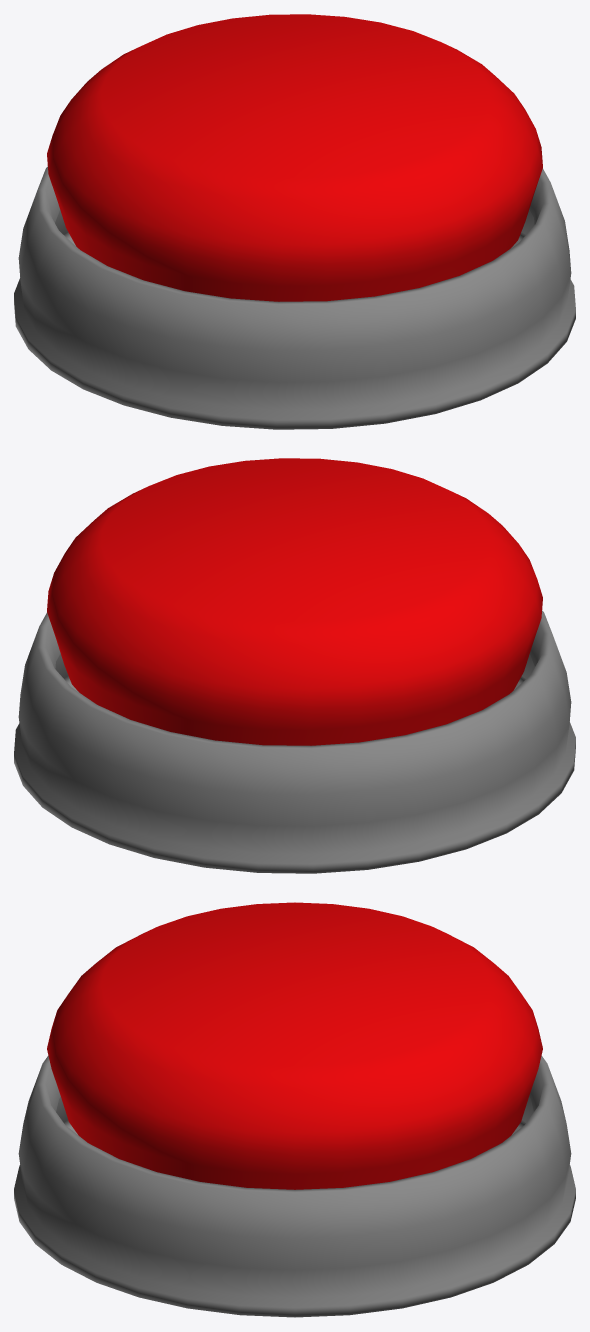
File: button 1.fbx
3 views of the same model, one above another, from view 1: azimuth 30°, elevation 25°; view 2: azimuth 150°, elevation 25°; view 3: azimuth 270°, elevation 25° (orthographic).
Parts seen in each view (by area): view 1: Button, Metal; view 2: Button, Metal; view 3: Button, Metal.
Part boxes in pixels (<box>): Button: <box>47,14,542,301</box>; Metal: <box>14,166,575,429</box>; Button: <box>47,458,542,745</box>; Metal: <box>14,610,575,873</box>; Button: <box>47,902,542,1189</box>; Metal: <box>14,1055,575,1317</box>.
Size of the model in its own units: 234 by 98.58 by 234.
